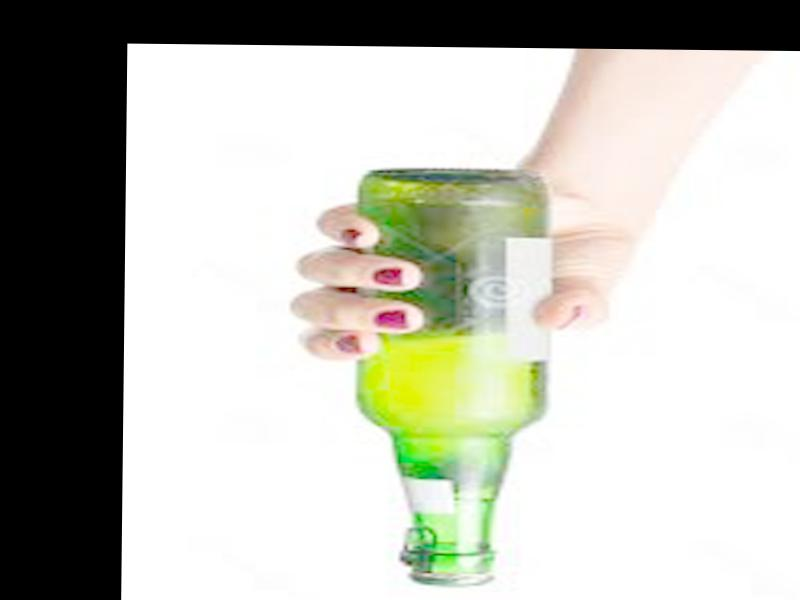Beer: (341, 169, 557, 588)
